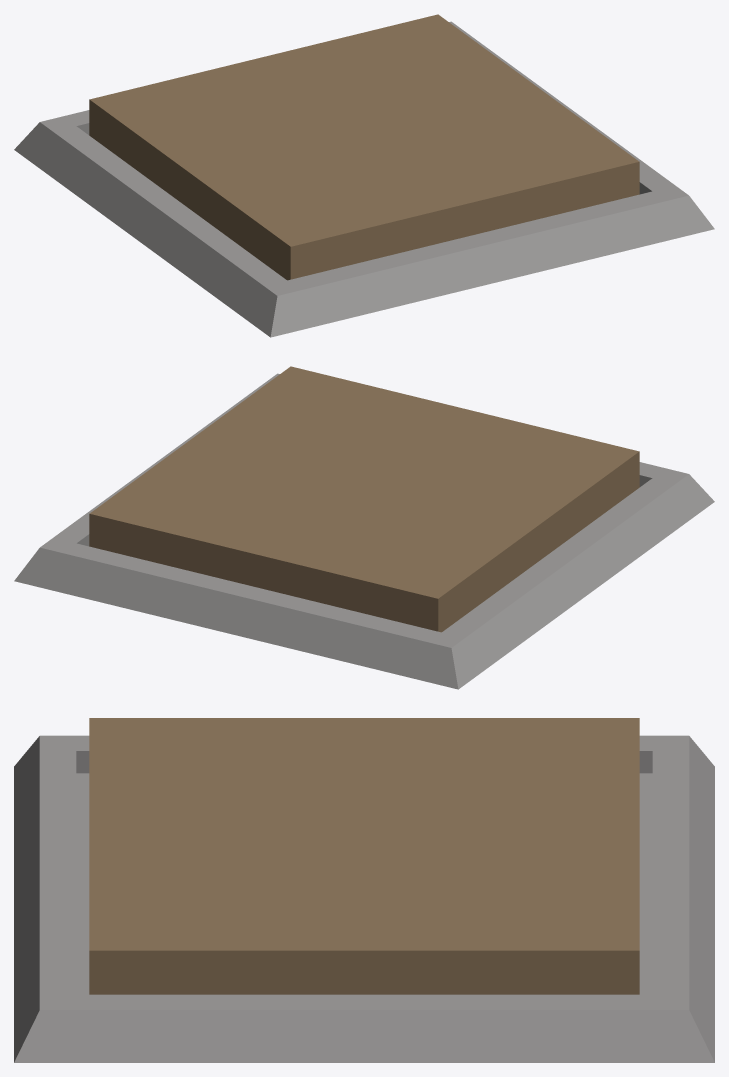
File: pressure_plate.fbx
The picture shows the model from 3 angles, top to bottom: view 1: azimuth 30°, elevation 25°; view 2: azimuth 150°, elevation 25°; view 3: azimuth 270°, elevation 25°; orthographic projection. The views are drawn at different scales.
Parts seen in each view (by area): view 1: Pressure Plate Small; view 2: Pressure Plate Small; view 3: Pressure Plate Small.
Boxes of the visible parts, <box> form: Pressure Plate Small: <box>14,14,714,337</box>; Pressure Plate Small: <box>14,366,714,689</box>; Pressure Plate Small: <box>14,718,714,1062</box>.
Bounding box in the file's own units: 67.71 × 8.57 × 67.71.
